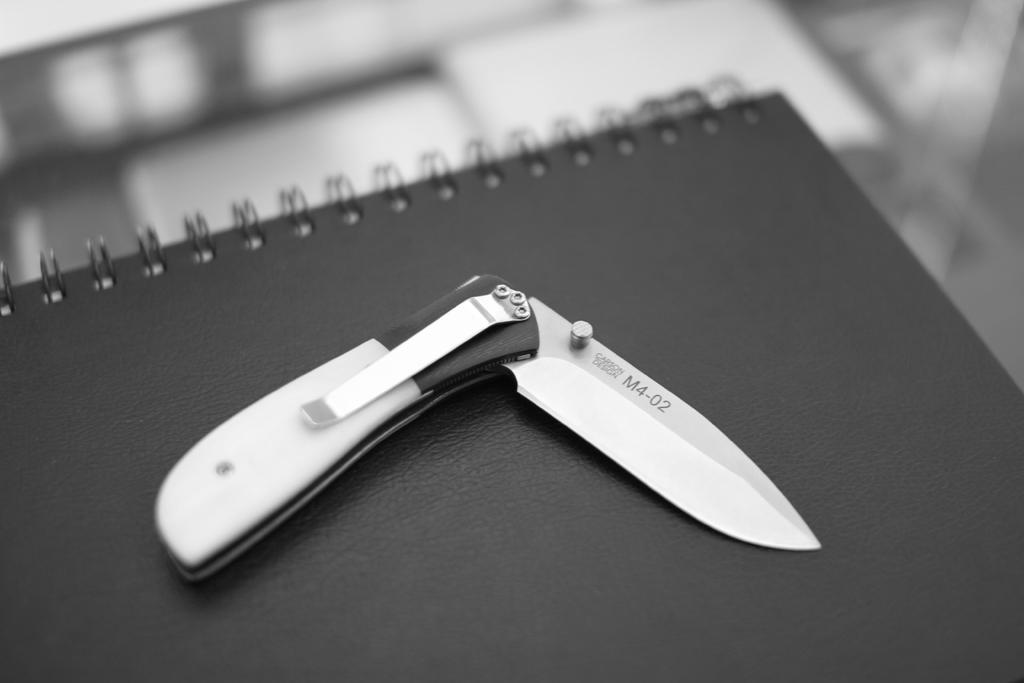Knife: (151, 270, 824, 586)
